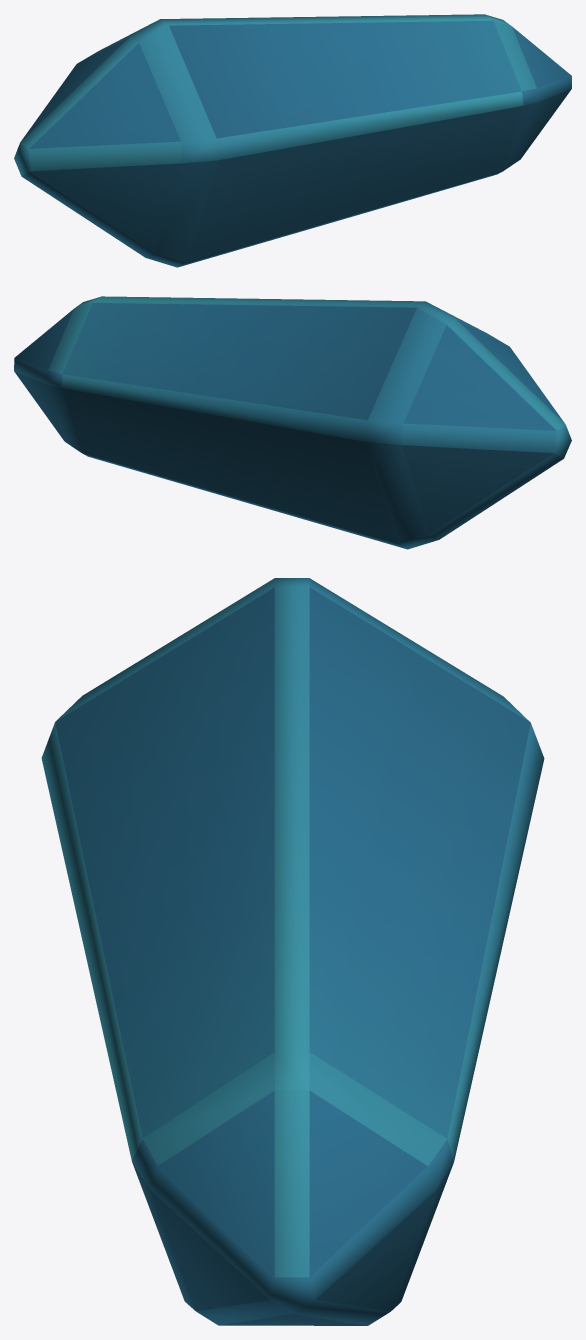
The model's file is christal_saphire_2.fbx.
3 renders of one model, top to bottom at view 1: azimuth 30°, elevation 25°; view 2: azimuth 150°, elevation 25°; view 3: azimuth 270°, elevation 25°, orthographic. The views are drawn at different scales.
Parts seen in each view (by area): view 1: christal_saphire_2; view 2: christal_saphire_2; view 3: christal_saphire_2.
Boxes of the visible parts, x1,y1,x2,y2 form: christal_saphire_2: (14, 14, 571, 267); christal_saphire_2: (14, 296, 571, 549); christal_saphire_2: (41, 578, 544, 1325).
Bounding box in the file's own units: 86.4 × 32.67 × 34.49.
Materials: 1 (1 with a texture image).
